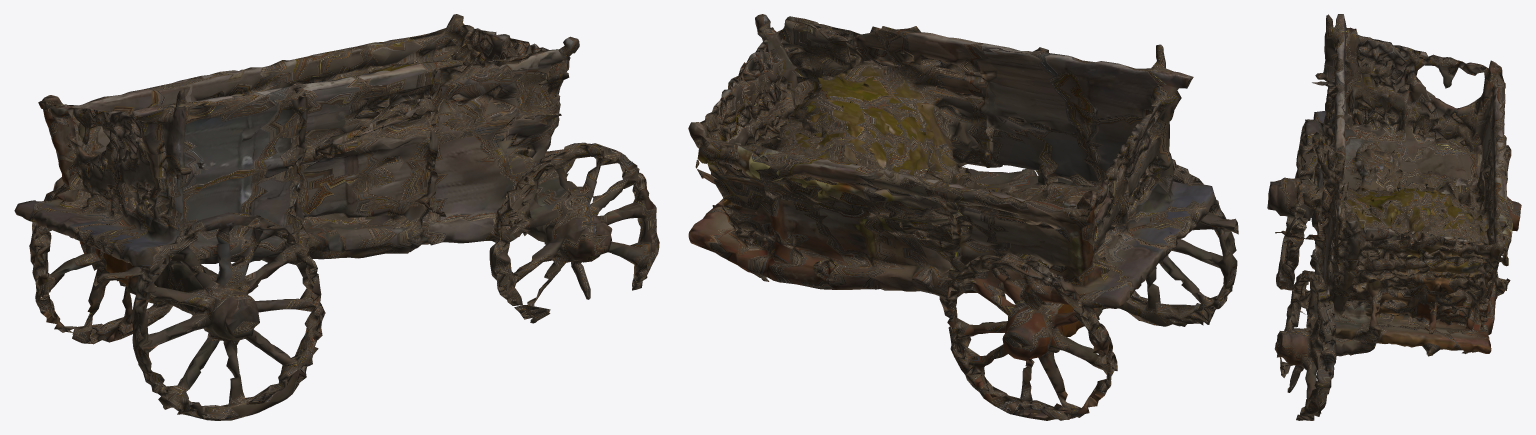
File: عربة_محطمة.glb
3 views of the same model, side by side, from view 1: azimuth 30°, elevation 25°; view 2: azimuth 150°, elevation 25°; view 3: azimuth 270°, elevation 25° (orthographic). The views are drawn at different scales.
Visible parts, largest first — view 1: tripo_node_eed6f6ee-86c0-4de1-80b5-97e27c994294; view 2: tripo_node_eed6f6ee-86c0-4de1-80b5-97e27c994294; view 3: tripo_node_eed6f6ee-86c0-4de1-80b5-97e27c994294.
Boxes of the visible parts, x1=… form: tripo_node_eed6f6ee-86c0-4de1-80b5-97e27c994294: x1=14, y1=14, x2=659, y2=420; tripo_node_eed6f6ee-86c0-4de1-80b5-97e27c994294: x1=688, y1=14, x2=1238, y2=420; tripo_node_eed6f6ee-86c0-4de1-80b5-97e27c994294: x1=1267, y1=14, x2=1521, y2=420.
Size of the model in its own units: 0.9915 by 0.5631 by 0.4905.
1 material, 1 textured.
